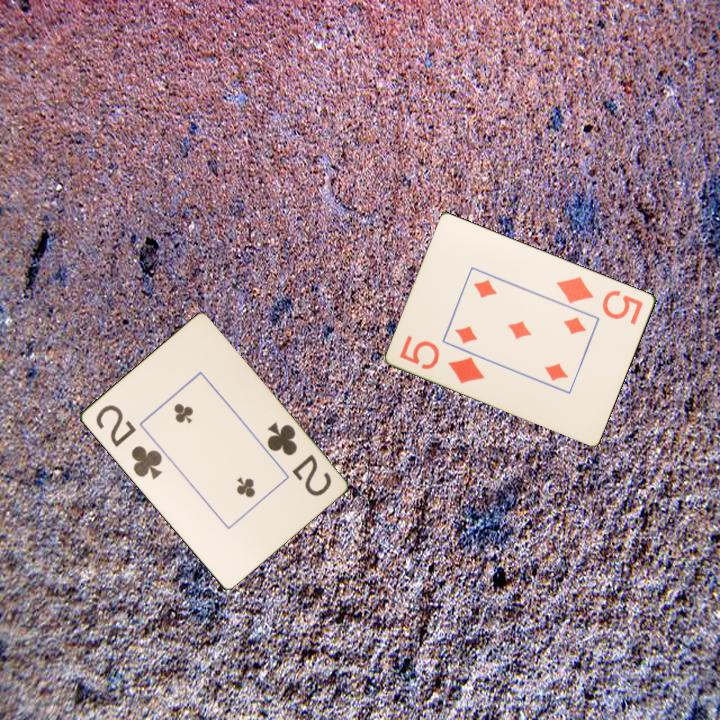2c: (92, 401, 165, 482), (263, 418, 334, 499)
5d: (396, 331, 488, 387), (553, 272, 646, 327)
